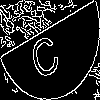C: (25, 24, 62, 82)
